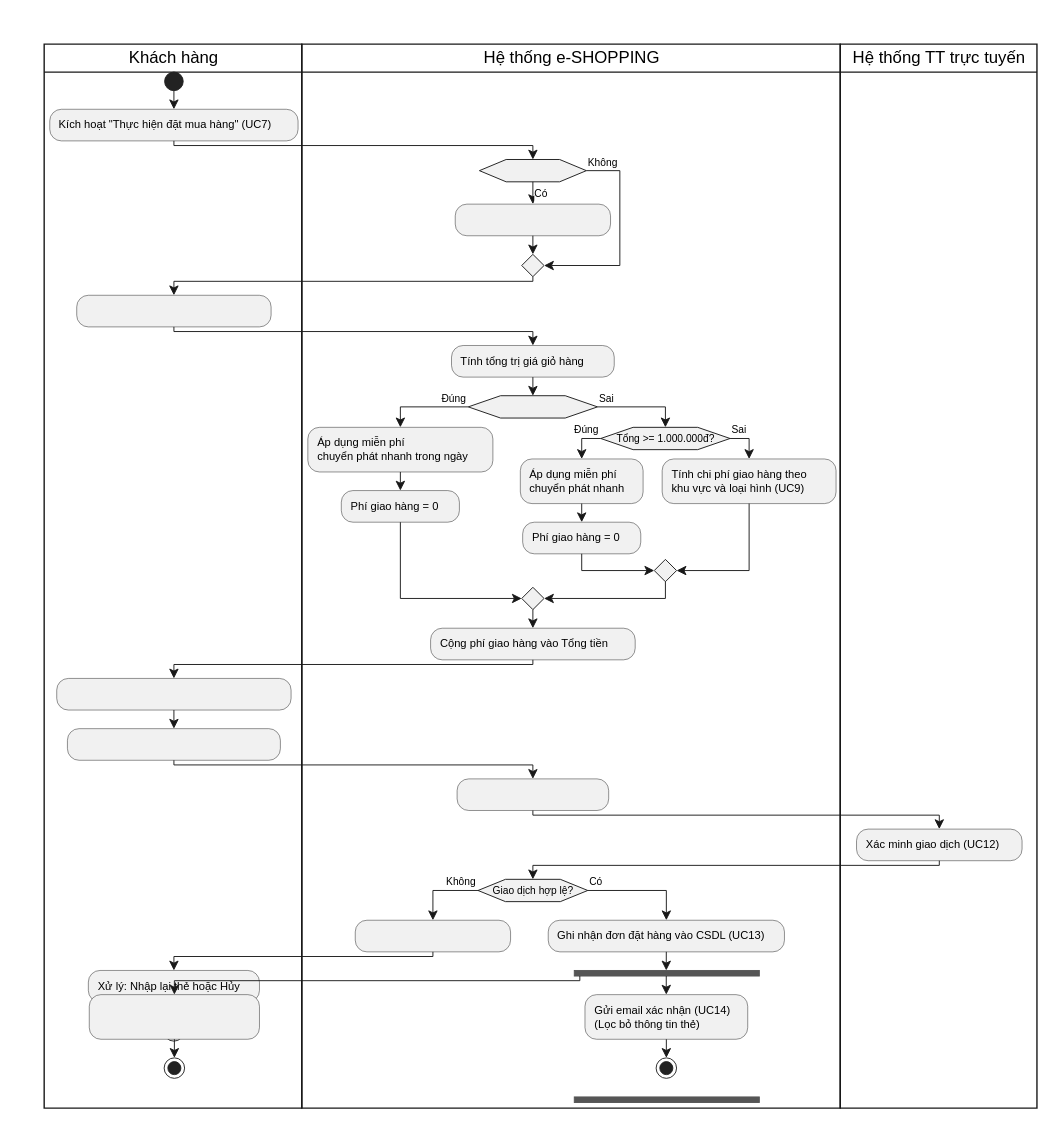
Image size: 1054x1124. Some labels were removed from this diagram. The shapes that lost their labels are listed below. From the top down, each one's centre as x and y in pixels, then its label:
pixel 532 170: Chưa đăng nhập?
pixel 532 219: Yêu cầu Đăng nhập (UC6)
pixel 173 311: Chọn hình thức giao hàng (UC8)
pixel 532 406: Tổng >= 5.000.000đ?
pixel 173 694: Nhập thông tin người nhận hàng (UC10)
pixel 173 744: Nhập thông tin thẻ tín dụng (UC11)
pixel 532 794: Gửi yêu cầu xác thực thẻ
pixel 432 936: Thông báo lỗi thanh toán
pixel 174 1016: Nhận thông báo đặt hàng thành công (UC15)
